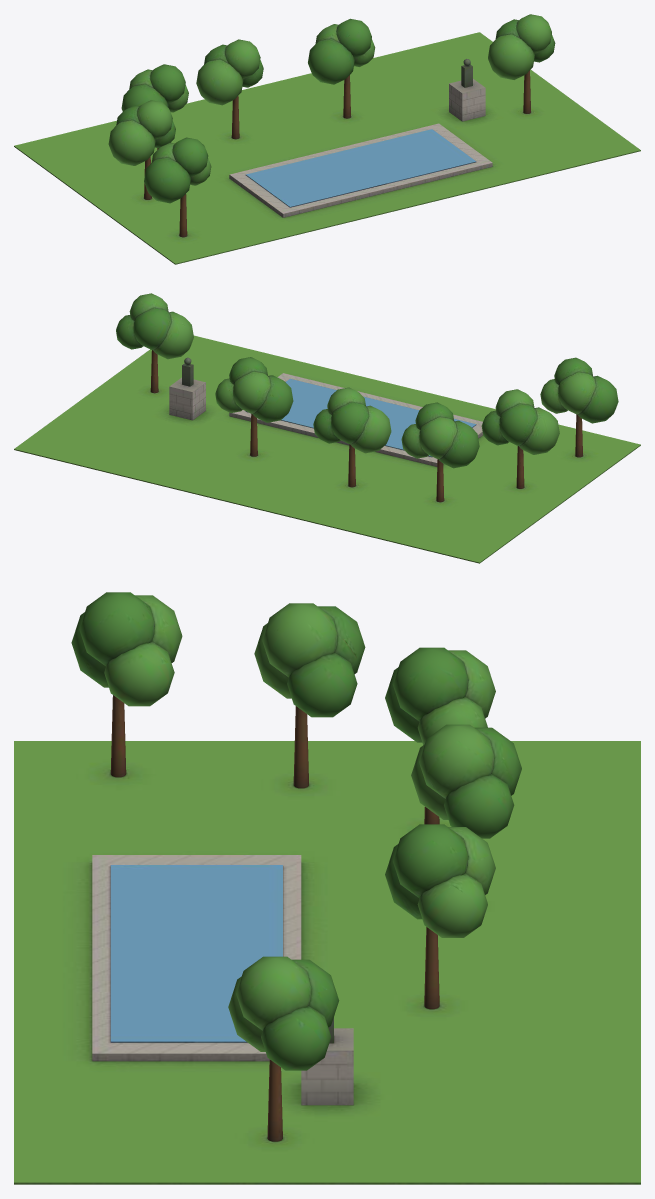
File: pershing.glb
3 renders of one model, top to bottom at view 1: azimuth 30°, elevation 25°; view 2: azimuth 150°, elevation 25°; view 3: azimuth 270°, elevation 25°, orthographic. The views are drawn at different scales.
Visible parts, largest first — view 1: pershing; view 2: pershing; view 3: pershing.
Boxes of the visible parts, x1=… form: pershing: x1=14, y1=14, x2=640, y2=264; pershing: x1=14, y1=293, x2=640, y2=563; pershing: x1=14, y1=592, x2=640, y2=1184.
Size of the model in its own units: 40.06 by 7.9 by 24.
1 material, 1 textured.
